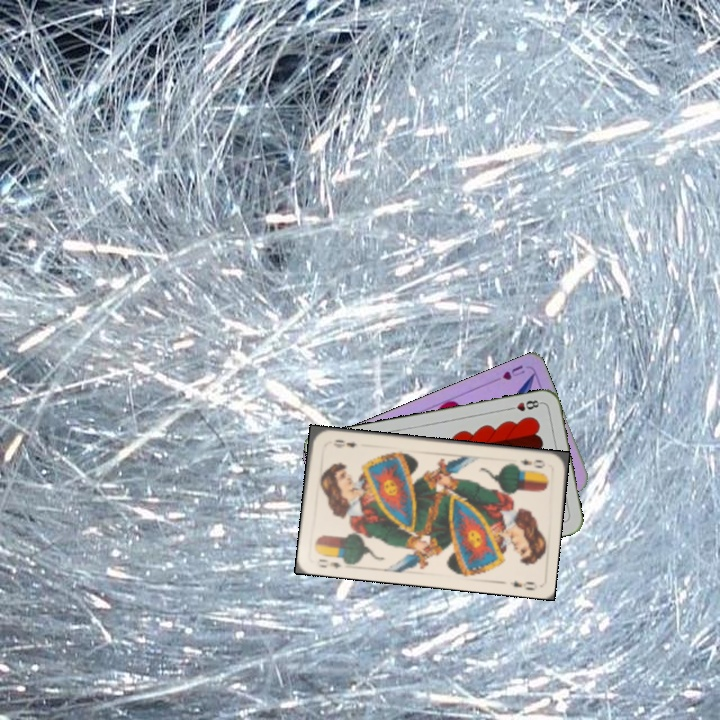EO: (516, 455, 548, 471), (314, 555, 344, 571)
H8: (504, 396, 544, 414)
HU: (498, 361, 528, 383)
